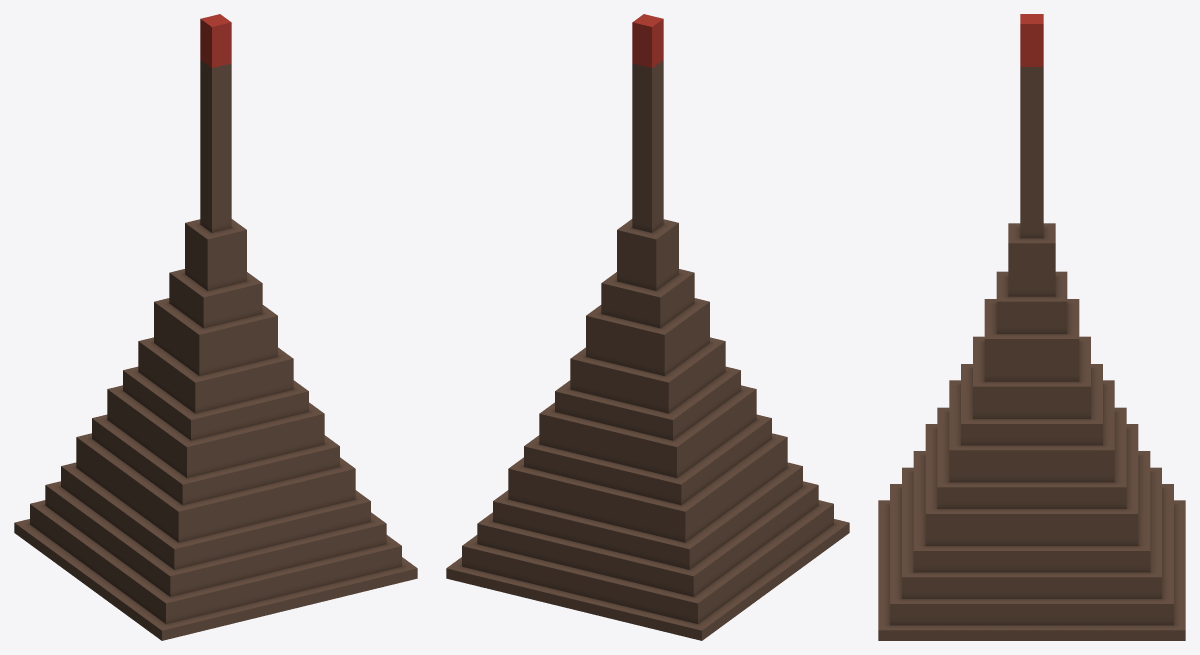
The model's file is w_spire.glb.
3 views of the same model, side by side, from view 1: azimuth 30°, elevation 25°; view 2: azimuth 150°, elevation 25°; view 3: azimuth 270°, elevation 25° (orthographic). The views are drawn at different scales.
Visible parts, largest first — view 1: w_spire_body; view 2: w_spire_body; view 3: w_spire_body.
Boxes of the visible parts, <box> form: w_spire_body: <box>14,14,417,640</box>; w_spire_body: <box>446,14,849,640</box>; w_spire_body: <box>878,14,1185,640</box>.
Size of the model in its own units: 1.62 by 3.25 by 1.62.
1 material, 1 textured.
